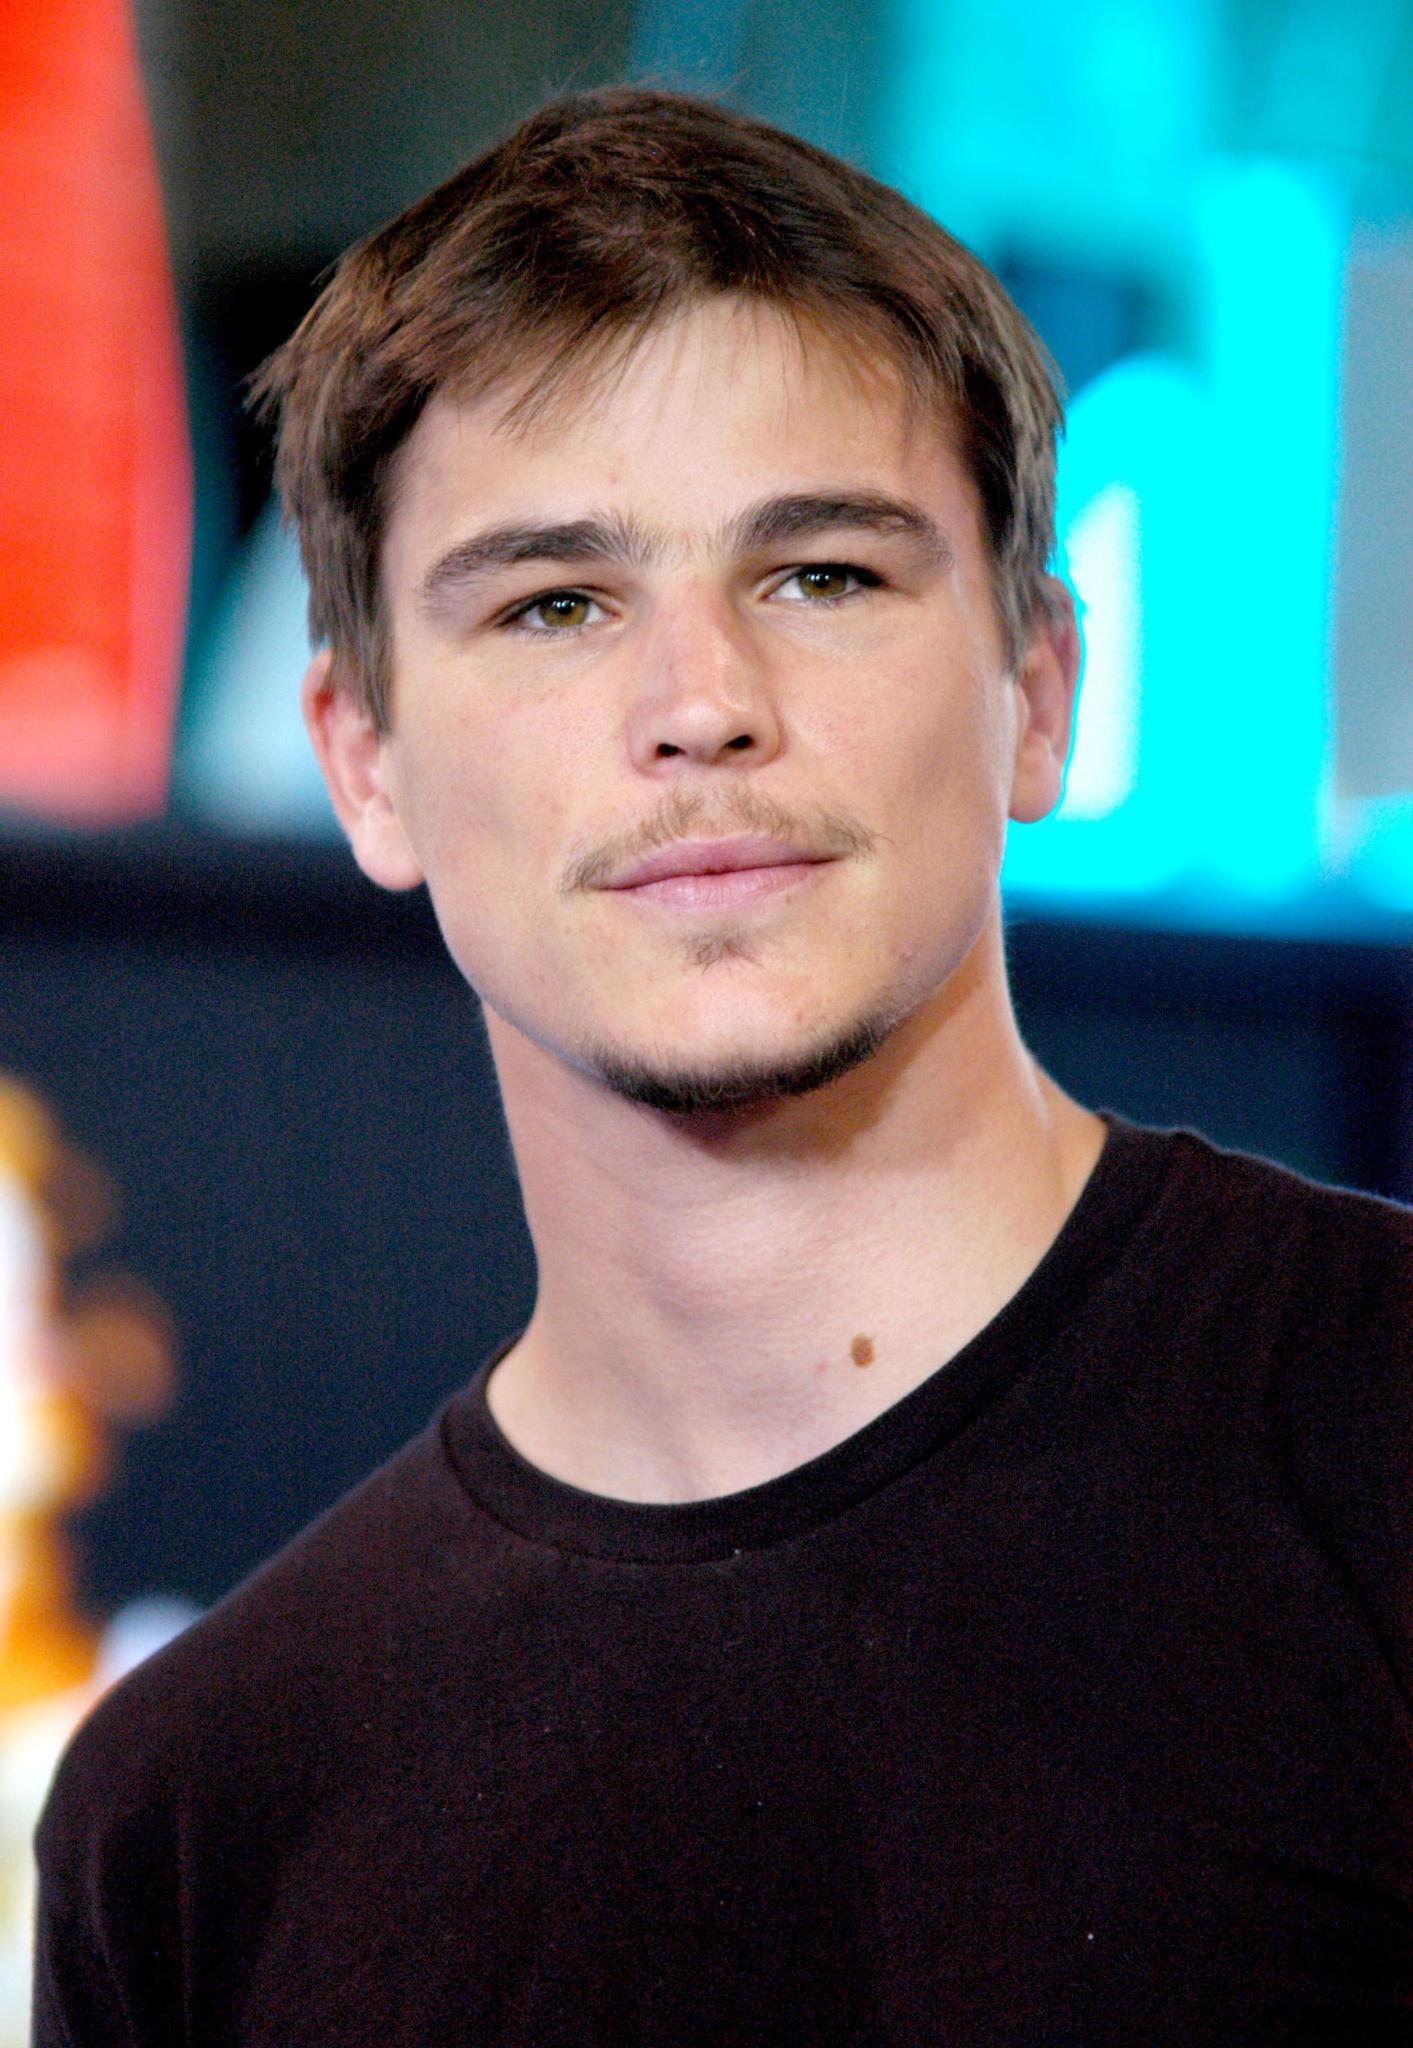Sober: (363, 300, 991, 1058)
